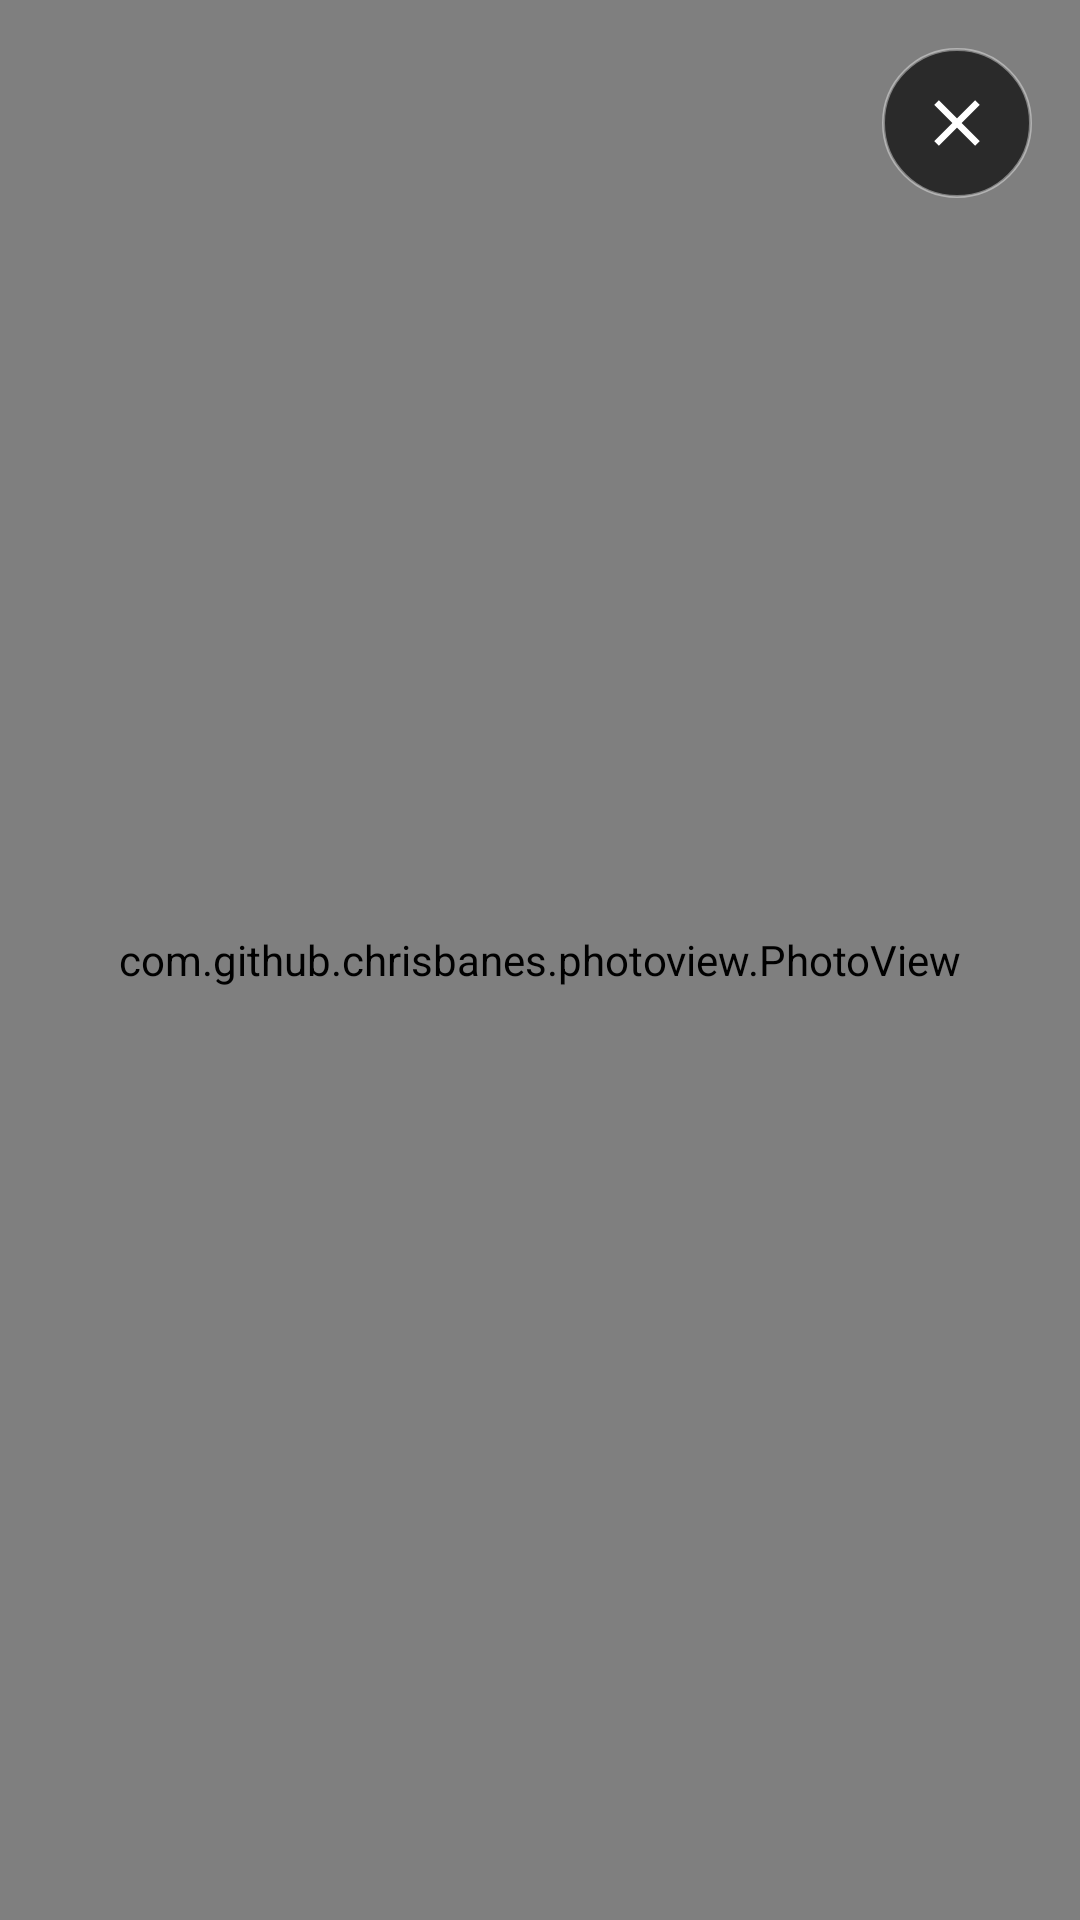

Locate icon controls on the screen. Image size 1080 x 1920, boxes as [x1, y1, x2, y2].
close: [882, 48, 1032, 198]
